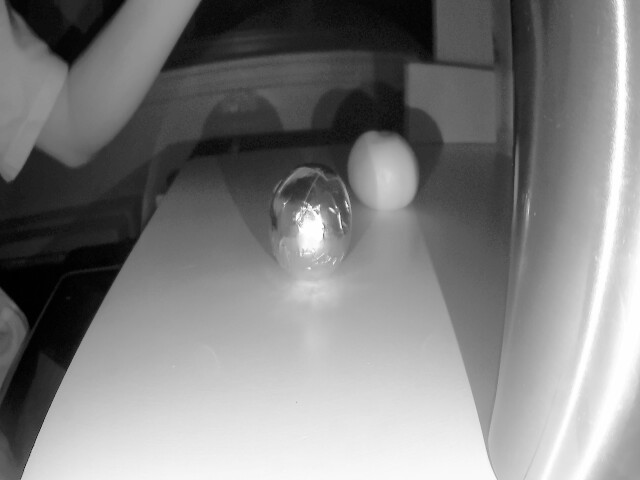black: (261, 162, 352, 288)
